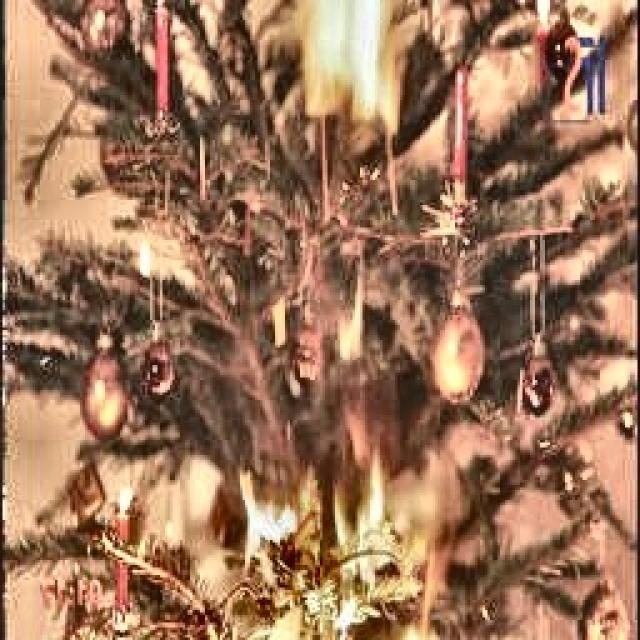fire: (235, 431, 450, 621)
